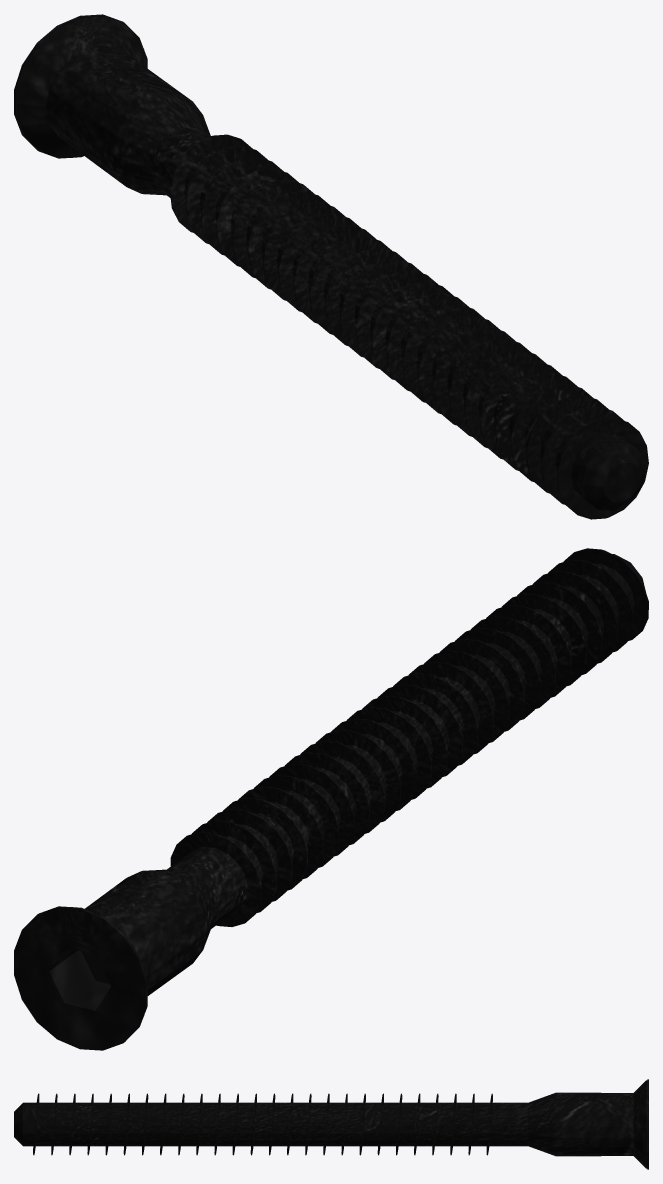
File: big_pin.obj
3 views of the same model, one above another, from view 1: azimuth 30°, elevation 25°; view 2: azimuth 150°, elevation 25°; view 3: azimuth 270°, elevation 25° (orthographic). The views are drawn at different scales.
Visible parts, largest first — view 1: Flat; view 2: Flat; view 3: Flat.
Boxes of the visible parts, x1=… form: Flat: x1=14, y1=14, x2=648, y2=519; Flat: x1=14, y1=548, x2=648, y2=1050; Flat: x1=14, y1=1079, x2=648, y2=1169.
Size of the model in its own units: 9.85 by 10 by 70.
1 material, 1 textured.
